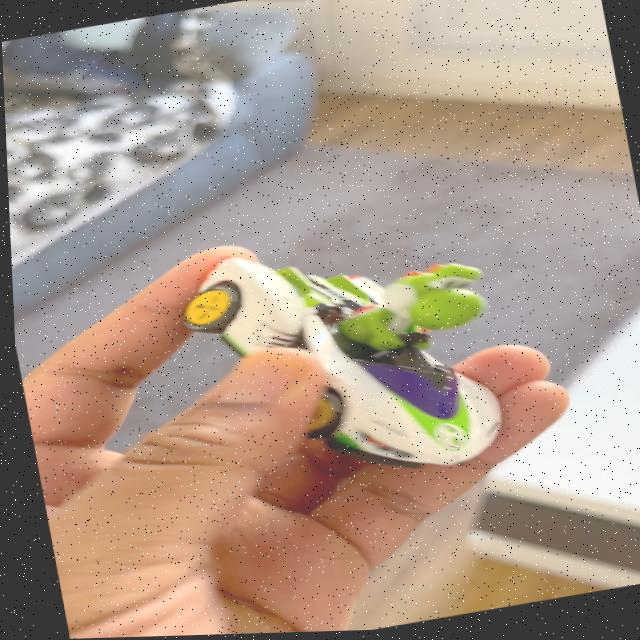yoshi: (159, 202, 536, 520)
